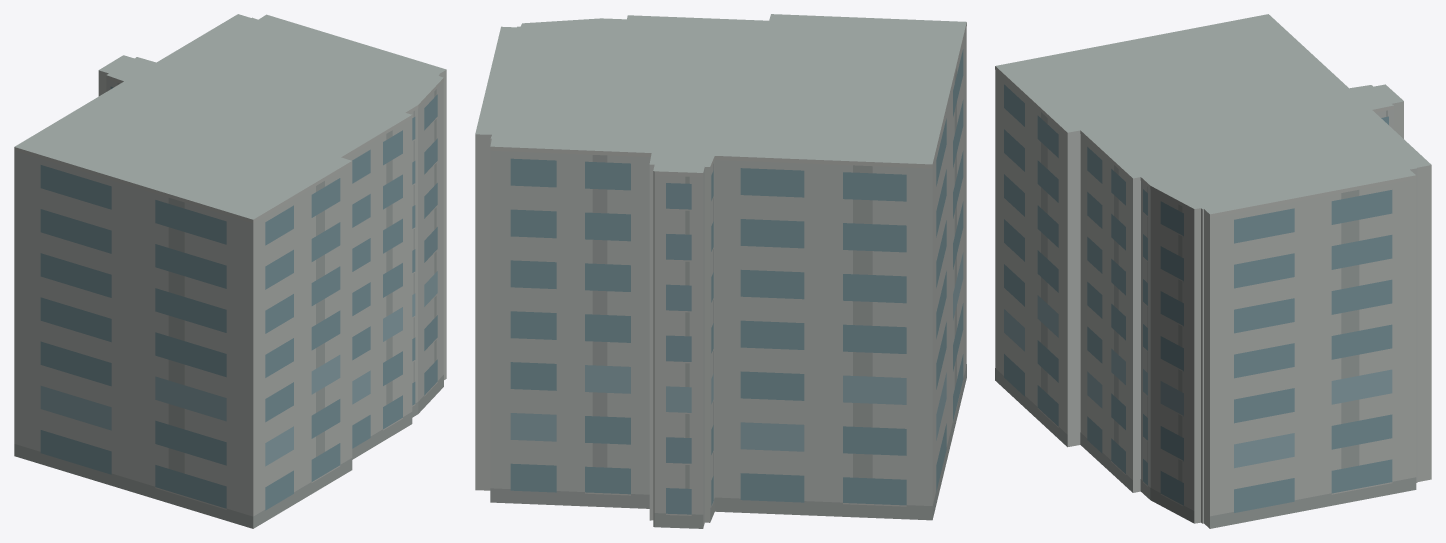
Rendered from survey-upis-32833052.glb.
3 views of the same model, side by side, from view 1: azimuth 30°, elevation 25°; view 2: azimuth 150°, elevation 25°; view 3: azimuth 270°, elevation 25° (orthographic). The views are drawn at different scales.
Parts seen in each view (by area): view 1: survey-upis-32833052.tmp; view 2: survey-upis-32833052.tmp; view 3: survey-upis-32833052.tmp.
Part boxes in pixels (x1,y1,x2,y2): survey-upis-32833052.tmp: (14, 14, 446, 528); survey-upis-32833052.tmp: (475, 14, 966, 528); survey-upis-32833052.tmp: (995, 14, 1431, 528).
Bounding box in the file's own units: 28.7 × 21 × 26.43.
